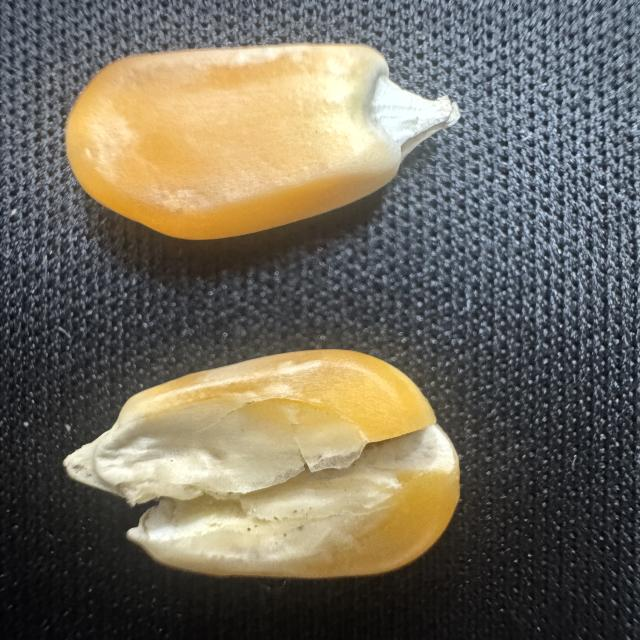Bad-Seed: (51, 338, 480, 588)
Good-Seed: (47, 34, 477, 243)
